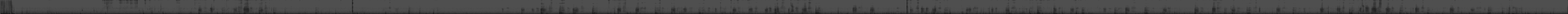Moan: (774, 0, 780, 14), (815, 0, 820, 14), (540, 0, 544, 14), (1194, 0, 1198, 14)
